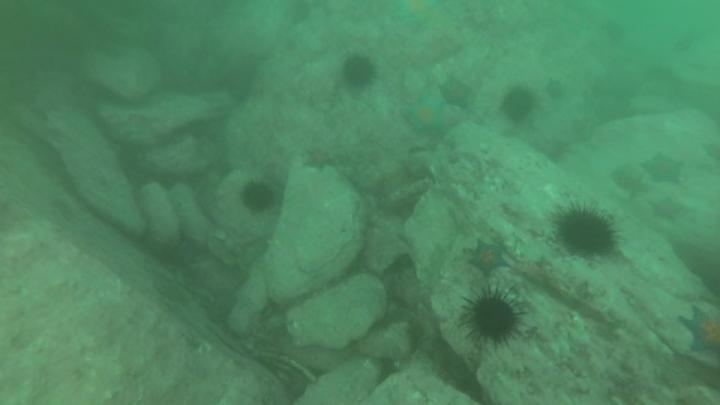echinus: (459, 284, 528, 350), (552, 200, 624, 263), (498, 83, 540, 127), (338, 52, 381, 93), (238, 176, 278, 216)
starfish: (403, 91, 457, 143), (677, 303, 720, 362), (639, 148, 690, 188), (469, 238, 511, 281), (439, 73, 476, 113), (651, 193, 687, 222), (300, 147, 338, 173), (394, 1, 442, 20), (543, 74, 567, 101), (702, 139, 720, 163)
